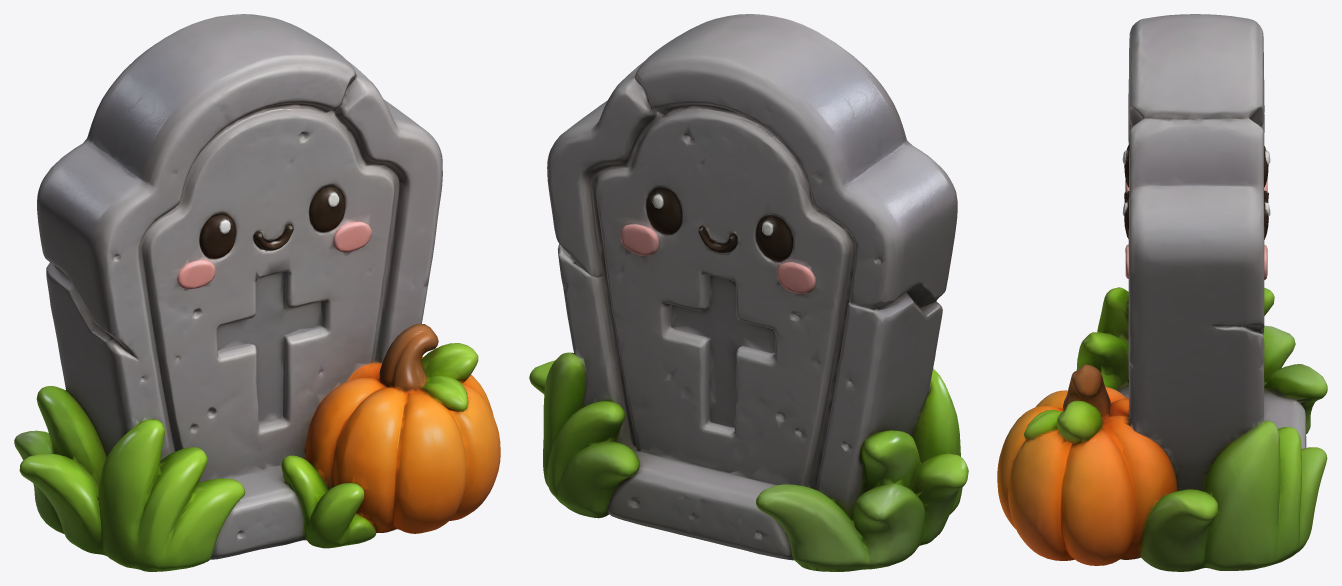
The model's file is tombstone.glb.
The picture shows the model from 3 angles, left to right: view 1: azimuth 30°, elevation 25°; view 2: azimuth 150°, elevation 25°; view 3: azimuth 270°, elevation 25°; orthographic projection. The views are drawn at different scales.
Visible parts, largest first — view 1: tripo_node_99d16d04-1188-4f0c-9492-21e9a9b0d1f9; view 2: tripo_node_99d16d04-1188-4f0c-9492-21e9a9b0d1f9; view 3: tripo_node_99d16d04-1188-4f0c-9492-21e9a9b0d1f9.
Part boxes in pixels (x1=…): tripo_node_99d16d04-1188-4f0c-9492-21e9a9b0d1f9: x1=14, y1=14, x2=500, y2=571; tripo_node_99d16d04-1188-4f0c-9492-21e9a9b0d1f9: x1=529, y1=14, x2=968, y2=571; tripo_node_99d16d04-1188-4f0c-9492-21e9a9b0d1f9: x1=997, y1=14, x2=1327, y2=571.
Size of the model in its own units: 0.9662 by 1 by 0.6485.
1 material, 1 textured.
